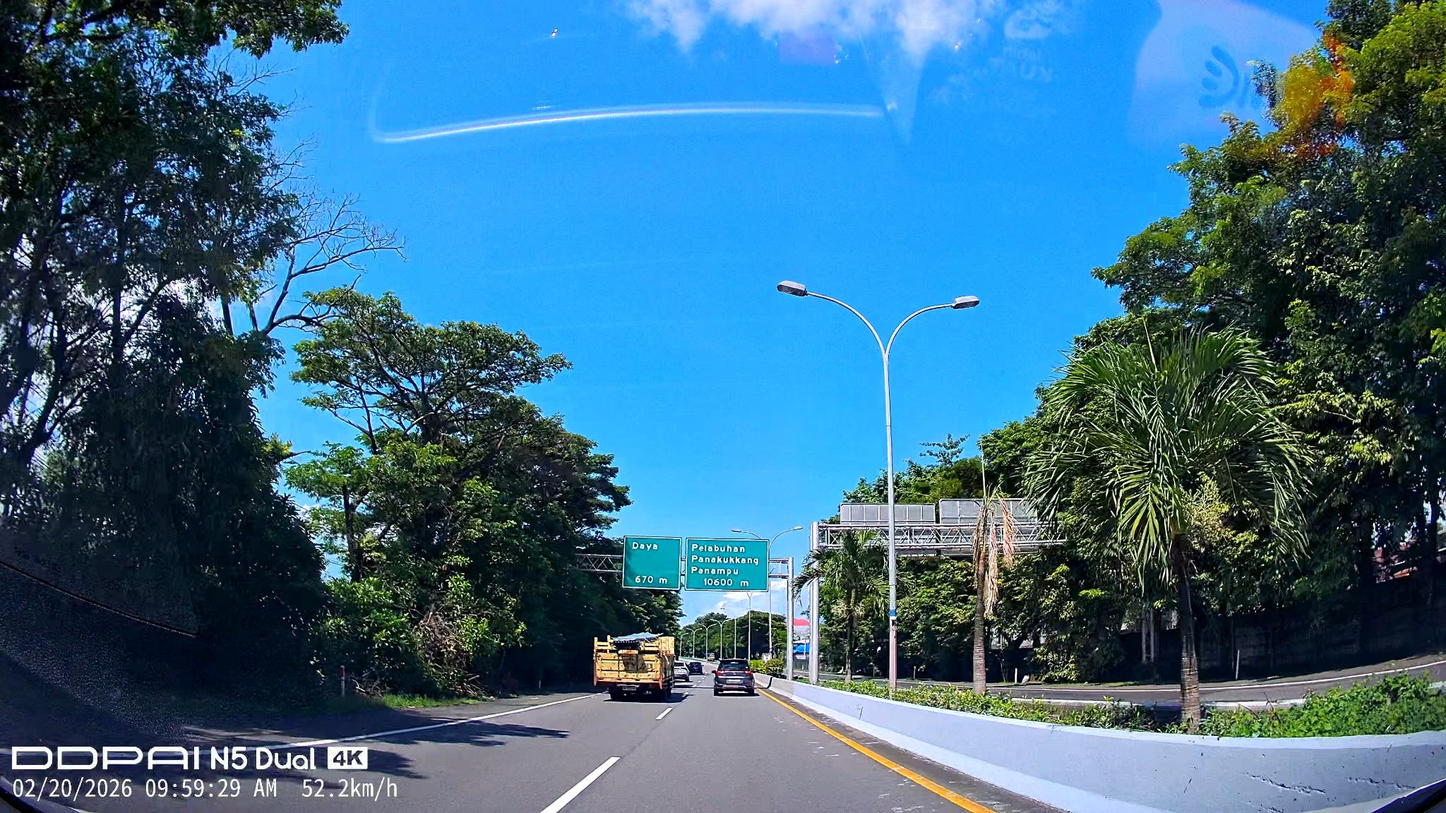rambu_teks: (685, 537, 769, 593), (622, 536, 682, 590)
